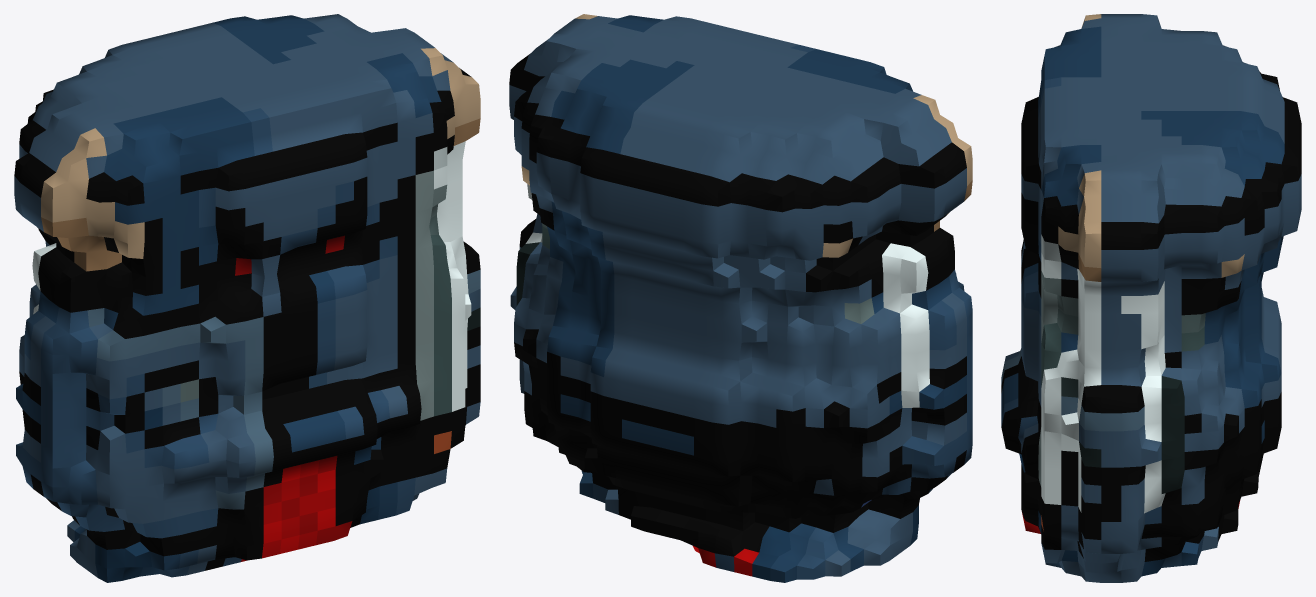
The model's file is Icon_742_03.obj.
The picture shows the model from 3 angles, left to right: view 1: azimuth 30°, elevation 25°; view 2: azimuth 150°, elevation 25°; view 3: azimuth 270°, elevation 25°; orthographic projection. The views are drawn at different scales.
Size of the model in its own units: 2.4 by 2.4 by 1.5.
